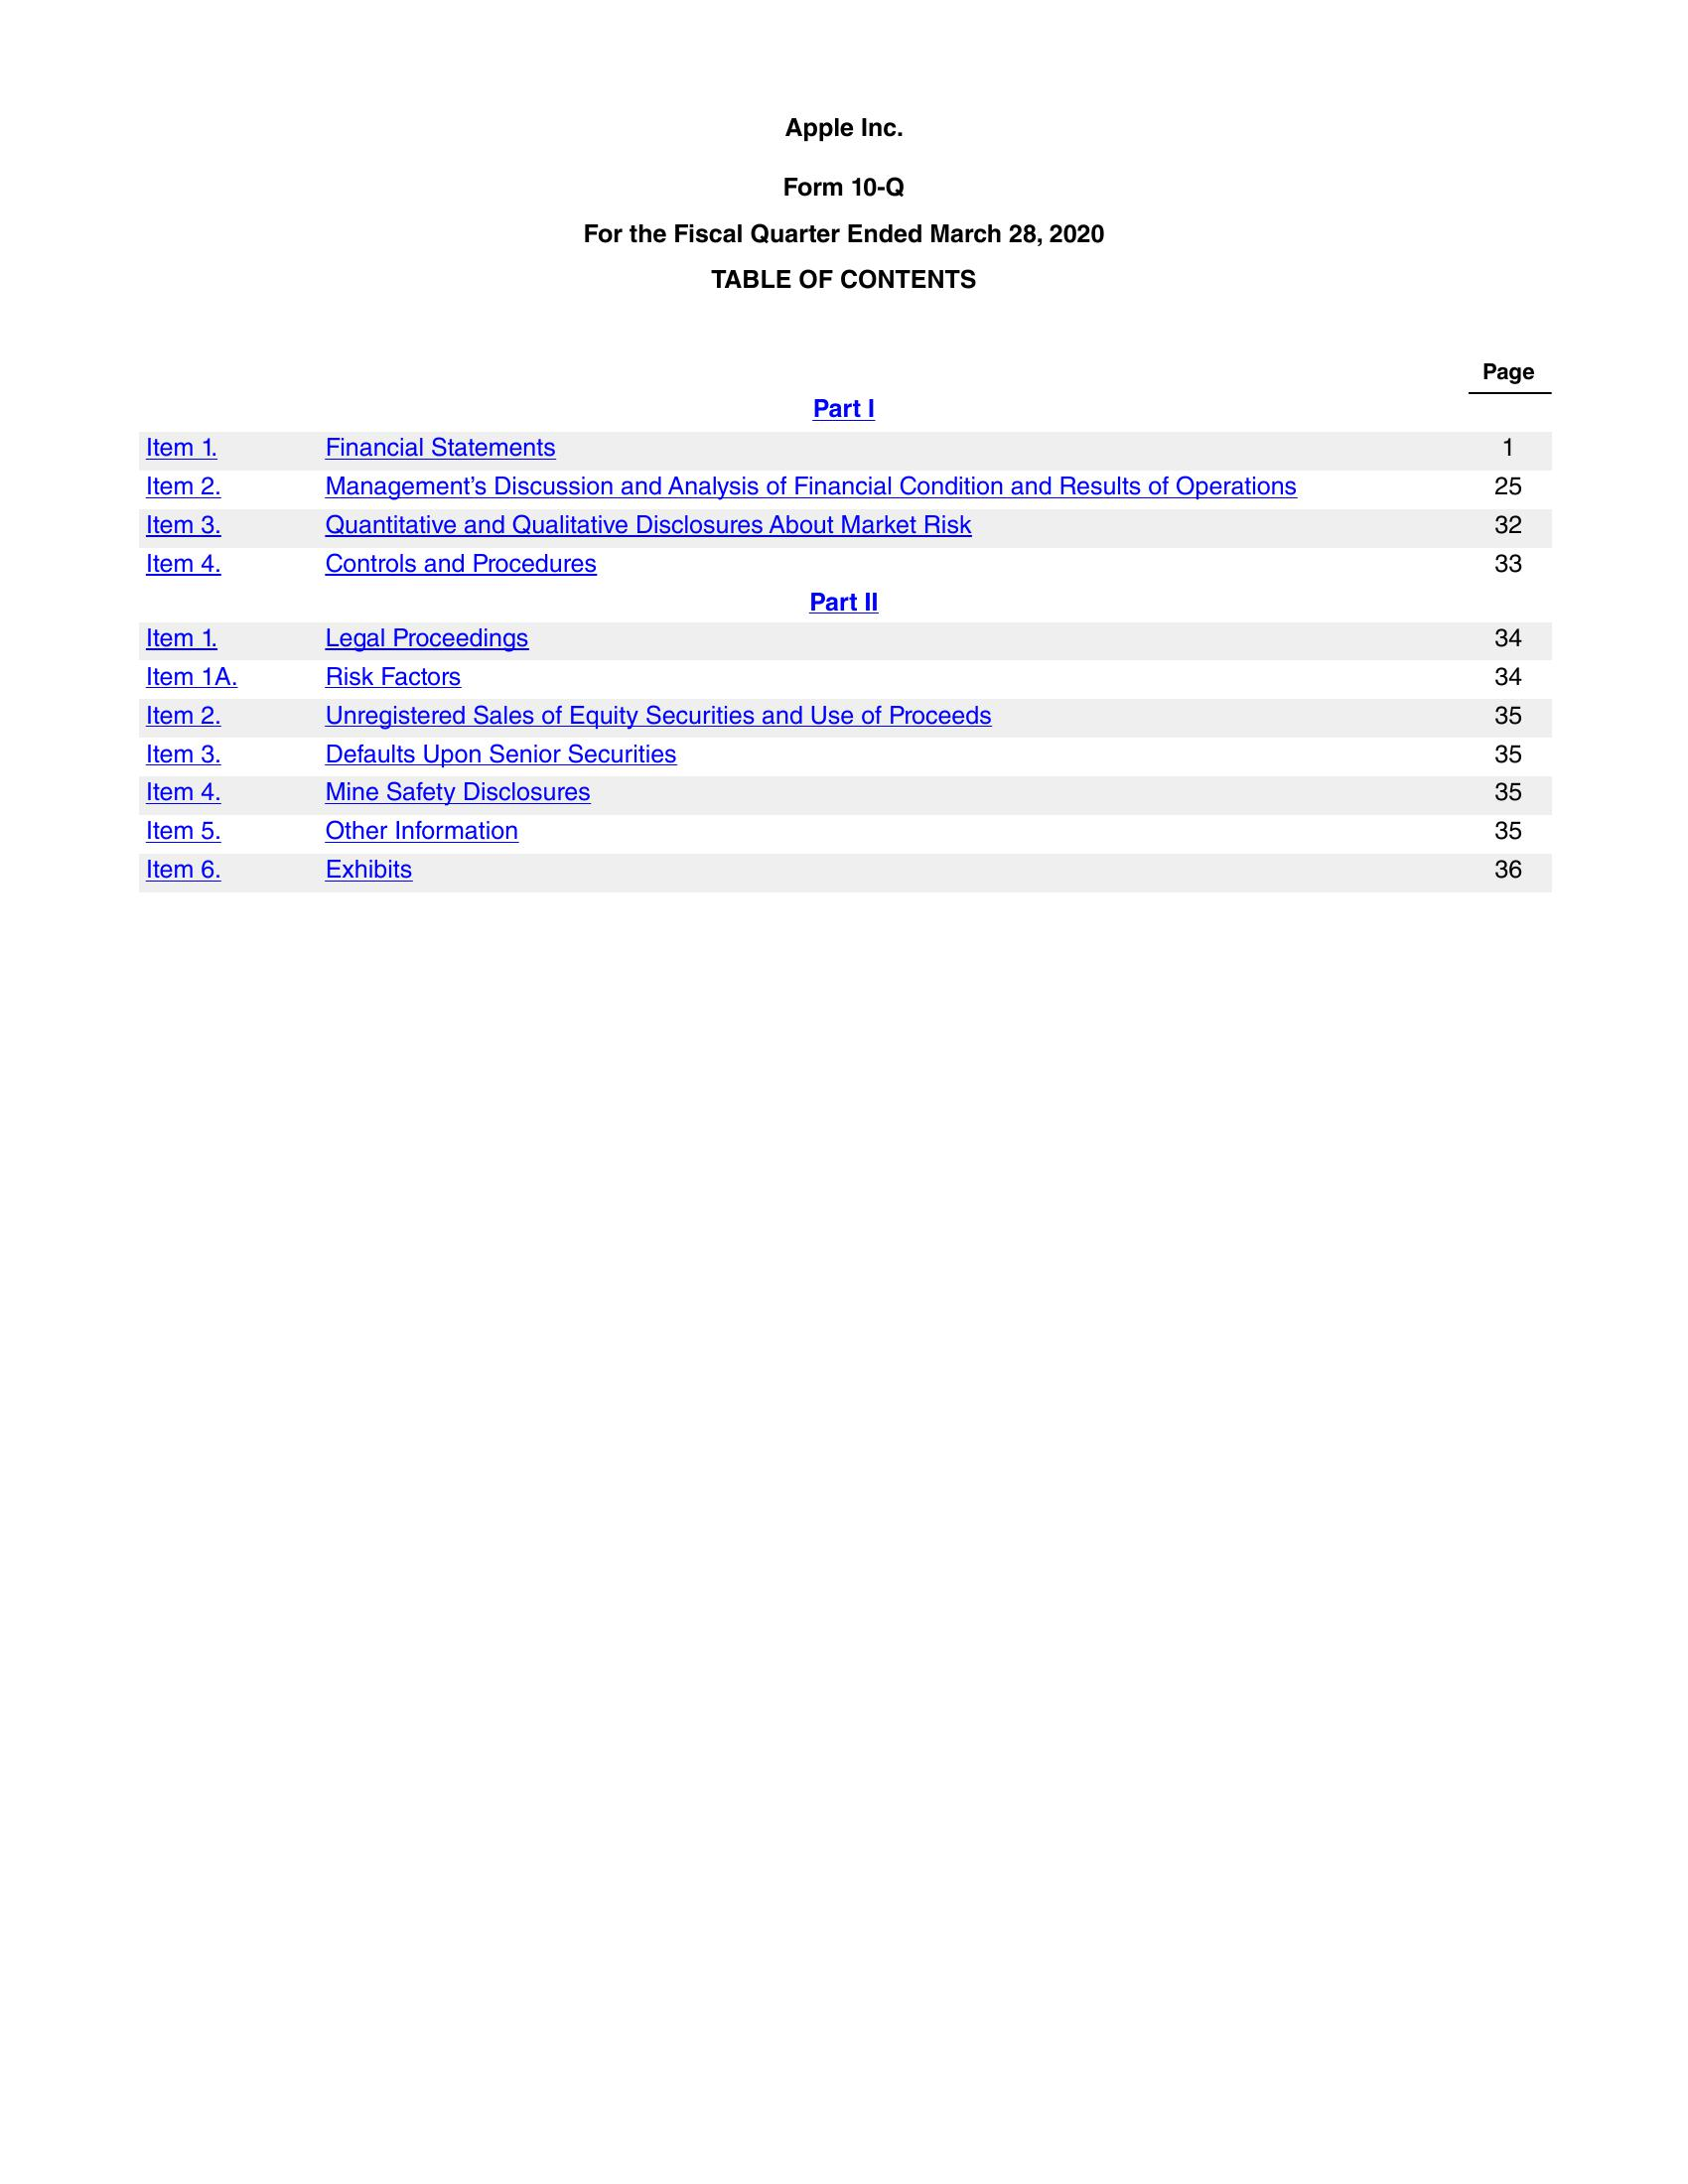table: (135, 360, 1553, 899)
